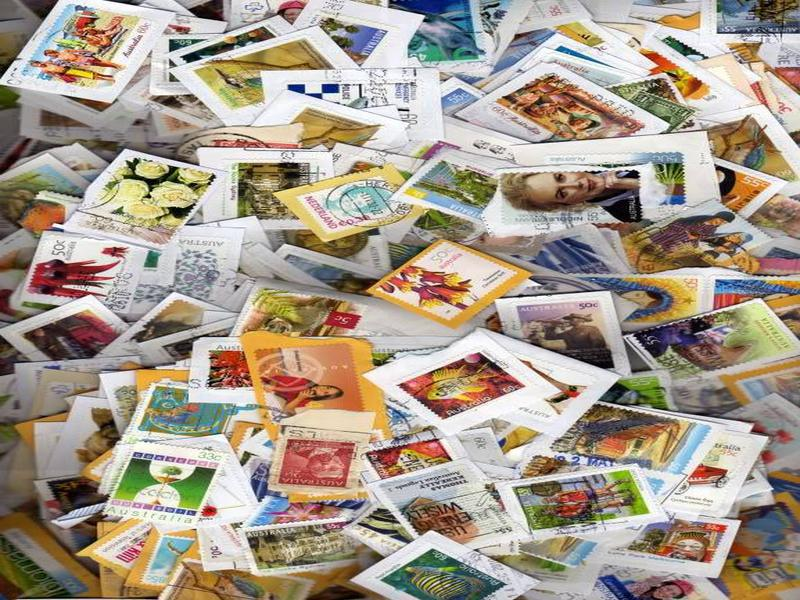paper: (363, 328, 574, 440), (474, 141, 670, 245), (456, 58, 680, 141), (1, 1, 179, 103), (627, 284, 800, 385), (67, 145, 229, 247), (364, 231, 535, 327), (275, 157, 435, 252), (343, 530, 553, 600), (497, 464, 674, 544), (366, 463, 511, 551), (14, 227, 149, 321), (96, 433, 228, 529)
